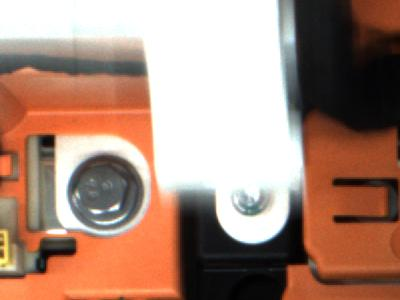nut_b: (65, 158, 146, 232)
